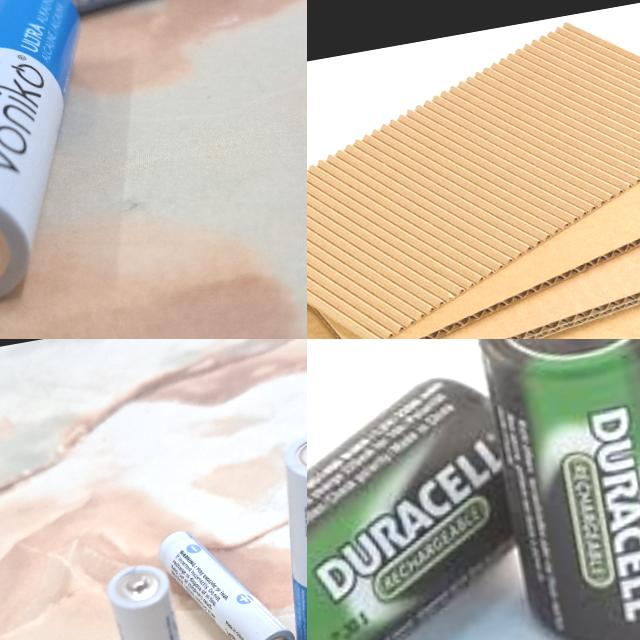bateria: (307, 361, 548, 640), (465, 339, 640, 640), (0, 0, 119, 318), (153, 512, 300, 640), (262, 424, 307, 640), (104, 558, 205, 640), (0, 0, 242, 28)
papelão: (307, 0, 640, 339)
